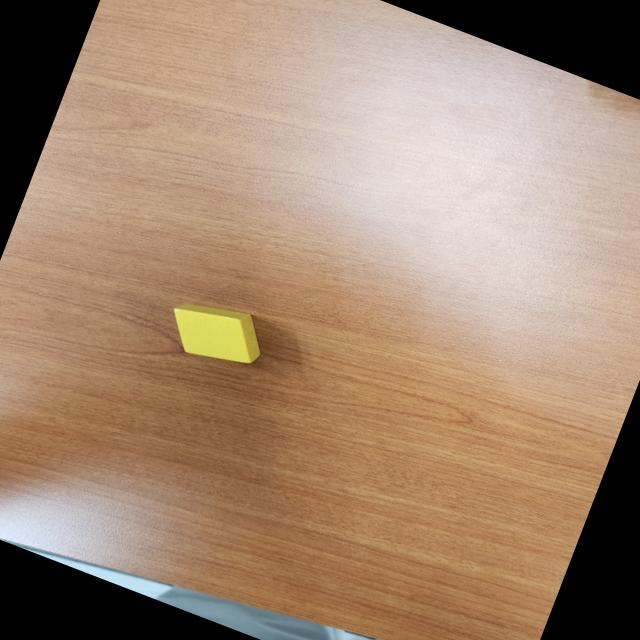yellow: (161, 288, 272, 376)
